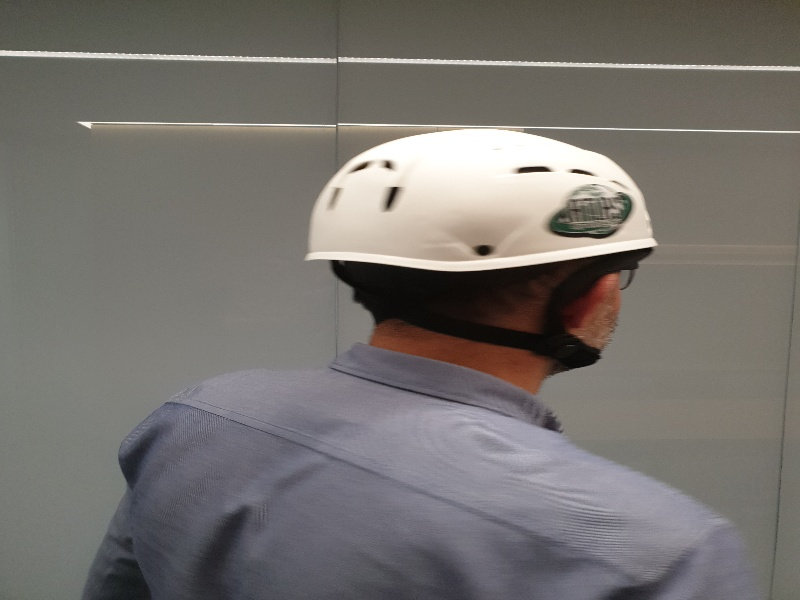Baret: (307, 126, 690, 256)
Gozluk: (619, 257, 640, 294)
